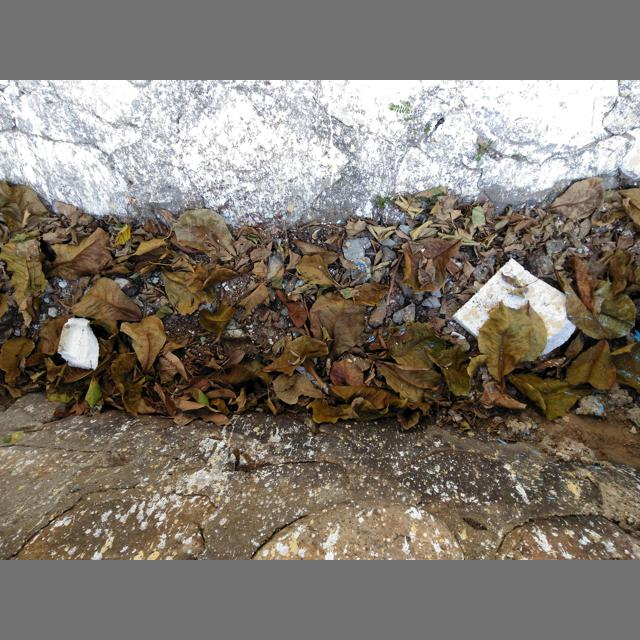litter: (452, 258, 576, 356), (58, 317, 99, 370), (351, 257, 371, 285)
